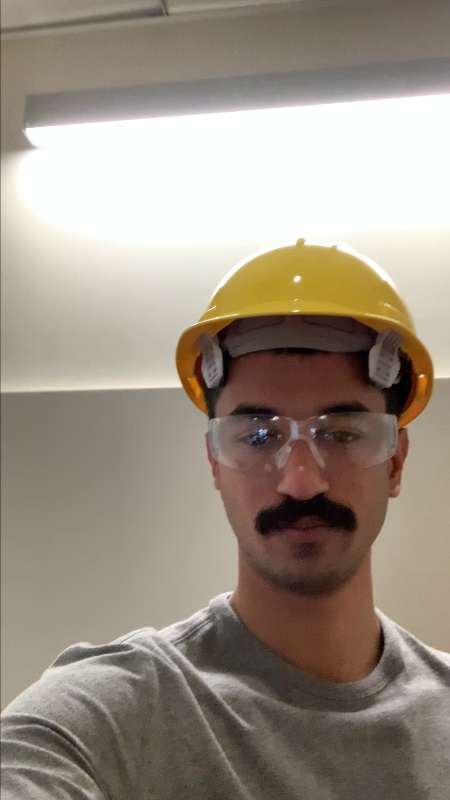glasses: (210, 407, 399, 474)
helmet: (171, 238, 435, 331)
